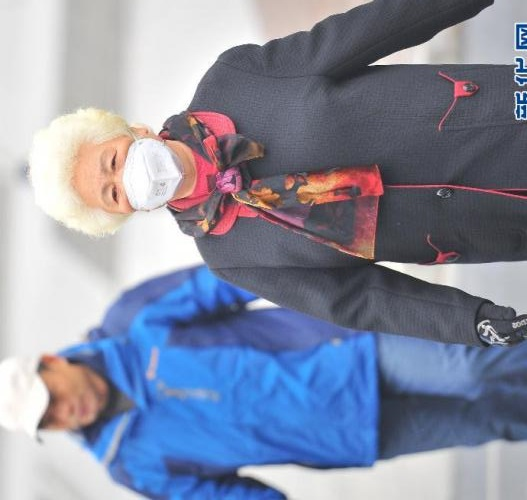person: (27, 6, 527, 339), (3, 278, 523, 500)
